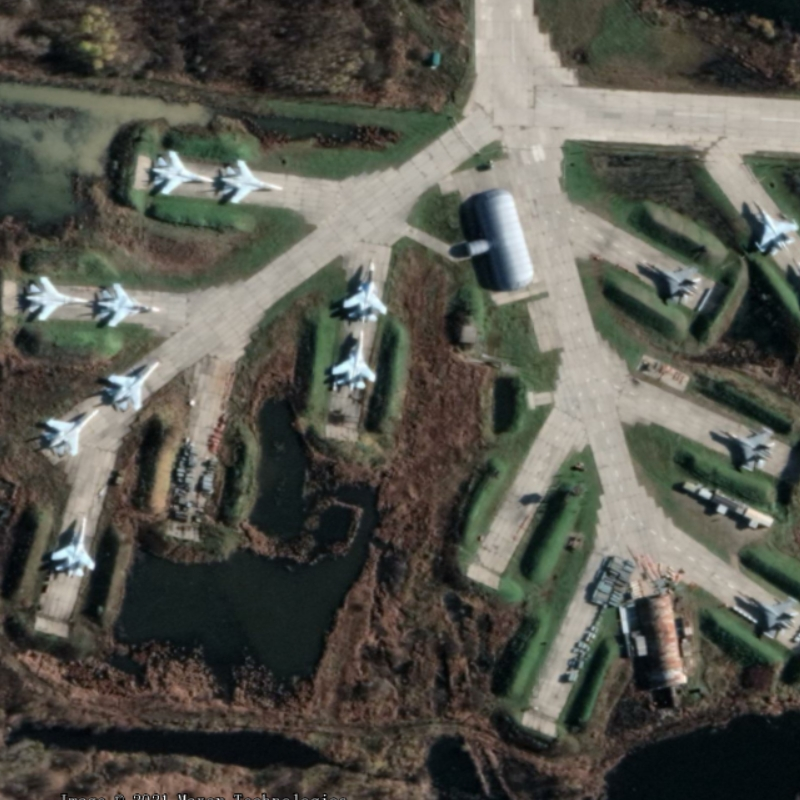A1: (21, 274, 92, 324), (150, 147, 218, 198), (218, 157, 286, 207), (46, 515, 98, 580), (42, 406, 102, 462), (736, 587, 798, 641), (329, 328, 378, 393), (750, 197, 799, 260), (105, 359, 162, 413), (644, 257, 704, 307), (724, 423, 779, 474)
A19: (341, 256, 389, 324), (96, 281, 162, 328)
